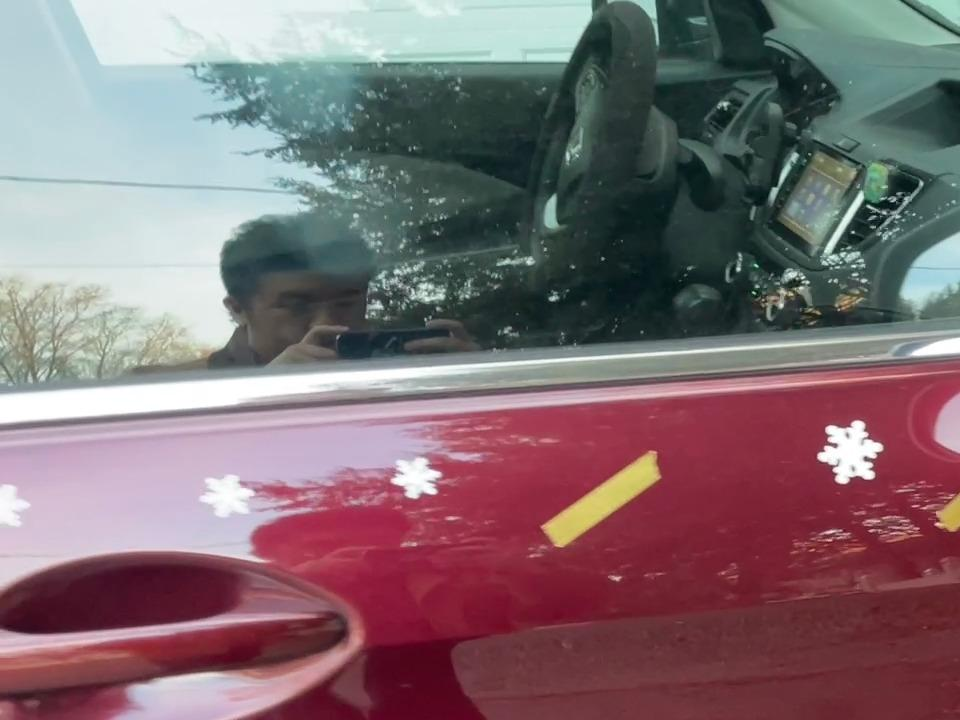dent: (805, 405, 903, 502), (381, 445, 461, 516), (191, 458, 264, 529), (0, 471, 47, 534)
scratch: (531, 438, 680, 561), (558, 694, 738, 720), (928, 461, 960, 544)
